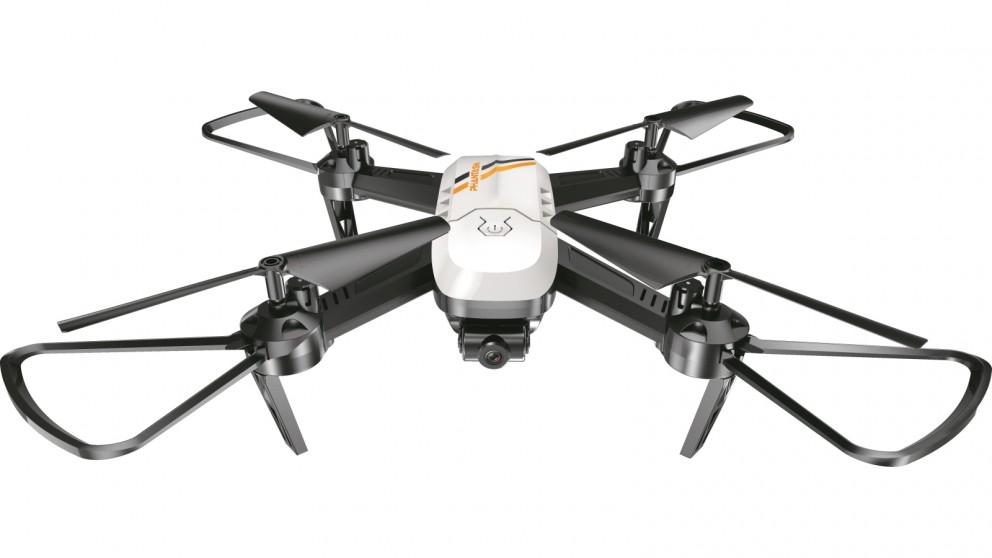drone: (1, 84, 992, 470)
